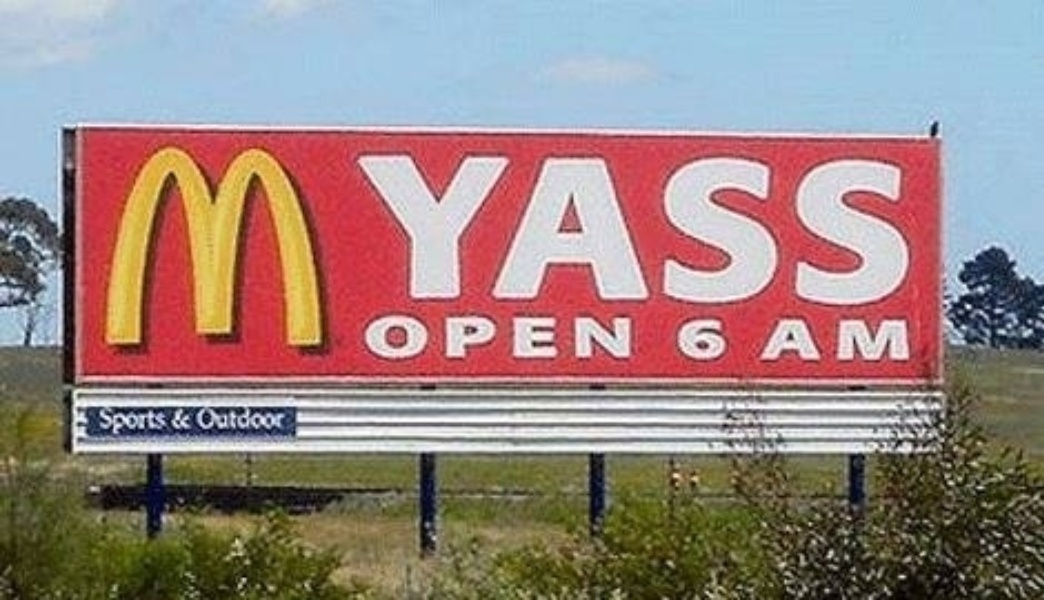text: (113, 143, 128, 349), (129, 143, 144, 349), (145, 143, 160, 349), (161, 143, 176, 349), (177, 143, 192, 349), (193, 143, 208, 349), (209, 143, 224, 349), (225, 143, 240, 349), (241, 143, 256, 349), (257, 143, 272, 349), (273, 143, 288, 349), (289, 143, 304, 349), (305, 143, 320, 349), (369, 152, 384, 309), (385, 152, 400, 309), (401, 152, 416, 309), (417, 152, 432, 309), (433, 152, 448, 309), (449, 152, 464, 309), (465, 152, 480, 309), (481, 152, 496, 309), (497, 152, 512, 309), (513, 152, 528, 309), (529, 152, 544, 309), (545, 152, 560, 309), (561, 152, 576, 309), (577, 152, 592, 309), (593, 152, 608, 309), (609, 152, 624, 309), (625, 152, 640, 309), (641, 152, 656, 309), (657, 152, 672, 309), (673, 152, 688, 309), (689, 152, 704, 309), (705, 152, 720, 309), (721, 152, 736, 309), (737, 152, 752, 309), (753, 152, 768, 309), (769, 152, 784, 309), (785, 152, 800, 309), (801, 152, 816, 309), (817, 152, 832, 309), (833, 152, 848, 309), (849, 152, 864, 309), (865, 152, 880, 309), (881, 152, 896, 309), (354, 152, 368, 309), (897, 152, 911, 309), (105, 143, 112, 349), (321, 143, 327, 349), (369, 309, 384, 363), (385, 309, 400, 363), (401, 309, 416, 363), (417, 309, 432, 363), (433, 309, 448, 363), (449, 309, 464, 363), (465, 309, 480, 363), (481, 309, 496, 363), (497, 309, 512, 363), (513, 309, 528, 363), (529, 309, 544, 363), (545, 309, 560, 363), (561, 309, 576, 363), (577, 309, 592, 363), (593, 309, 608, 363), (609, 309, 624, 363), (897, 318, 913, 363), (689, 316, 704, 363), (705, 316, 720, 363), (769, 318, 784, 363), (785, 318, 800, 363), (801, 318, 816, 363), (817, 318, 832, 363), (833, 318, 848, 363), (849, 318, 864, 363), (865, 318, 880, 363), (881, 318, 896, 363), (754, 318, 768, 363), (625, 309, 636, 363), (676, 316, 688, 363), (113, 407, 128, 438), (129, 407, 144, 438), (145, 407, 160, 438), (98, 407, 112, 438), (273, 405, 289, 432), (177, 407, 192, 434), (209, 405, 224, 432), (225, 405, 240, 432), (241, 405, 256, 432), (257, 405, 272, 432), (721, 316, 729, 363), (196, 405, 208, 432), (363, 309, 368, 363), (161, 407, 169, 438), (169, 407, 176, 434), (193, 407, 194, 434)
